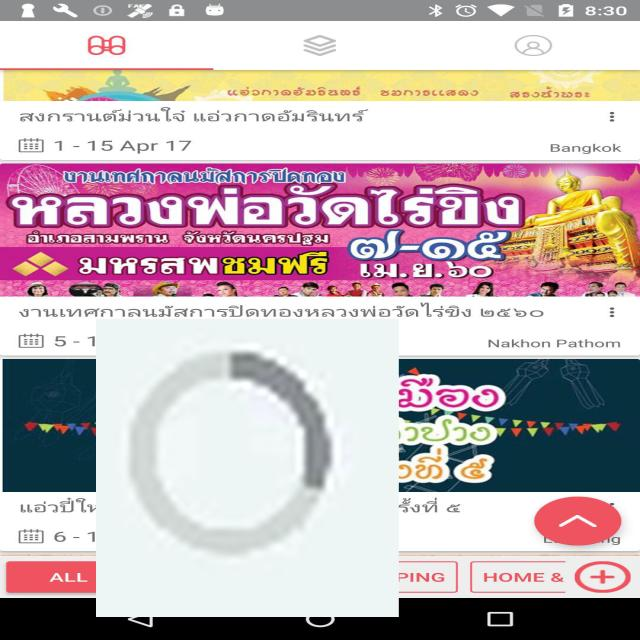misdirection: (96, 319, 399, 617)
